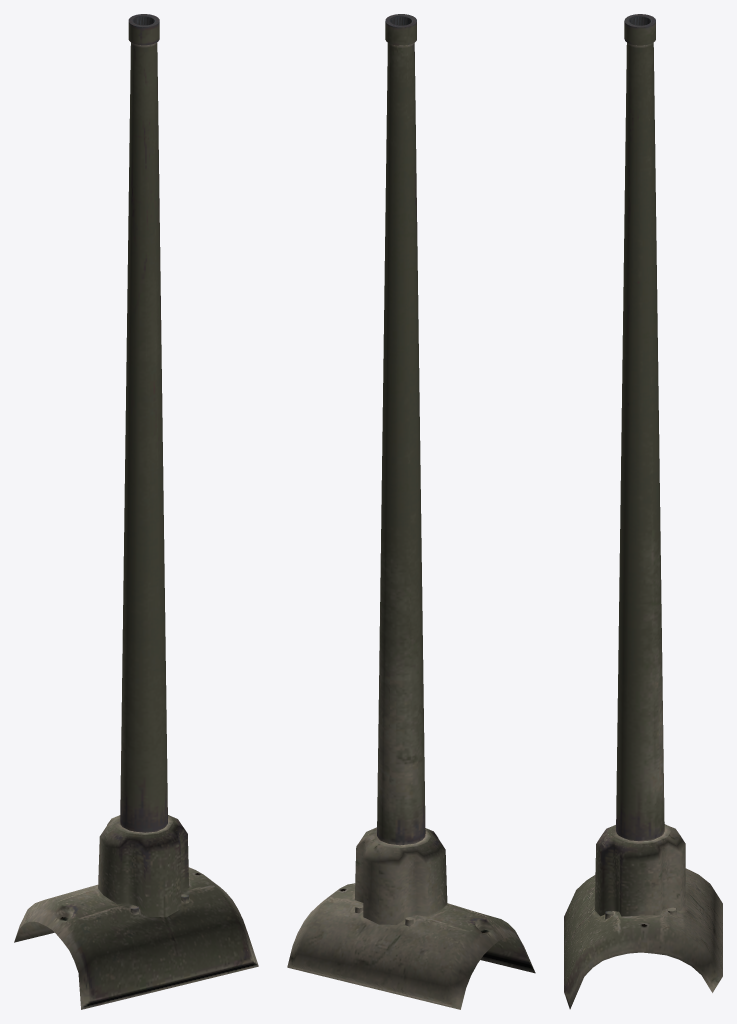
Rendered from Gun_09.glb.
The picture shows the model from 3 angles, left to right: view 1: azimuth 30°, elevation 25°; view 2: azimuth 150°, elevation 25°; view 3: azimuth 270°, elevation 25°; orthographic projection.
Parts seen in each view (by area): view 1: set_0_group_0; view 2: set_0_group_0; view 3: set_0_group_0.
Part boxes in pixels (left/top/right/bottom): set_0_group_0: left=14, top=14, right=258, bottom=1009; set_0_group_0: left=287, top=14, right=535, bottom=1009; set_0_group_0: left=564, top=14, right=722, bottom=1009.
Bounding box in the file's own units: 0.8174 × 4.13 × 0.6263.
1 material, 1 textured.
